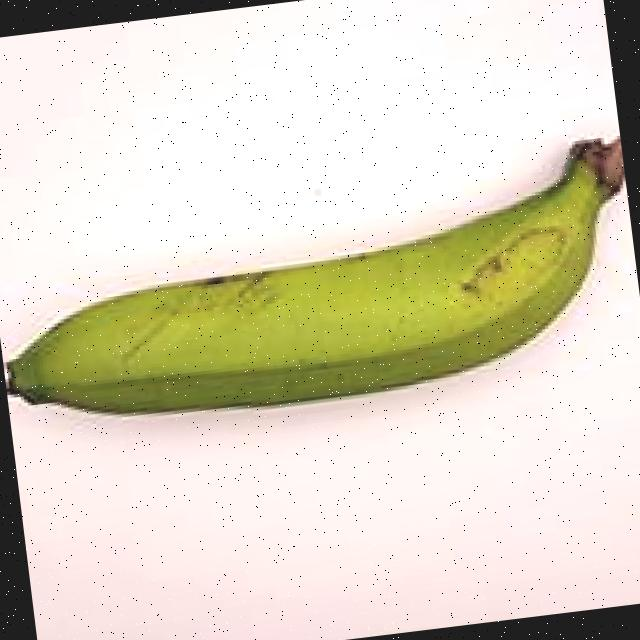Raw: (0, 109, 640, 462)
